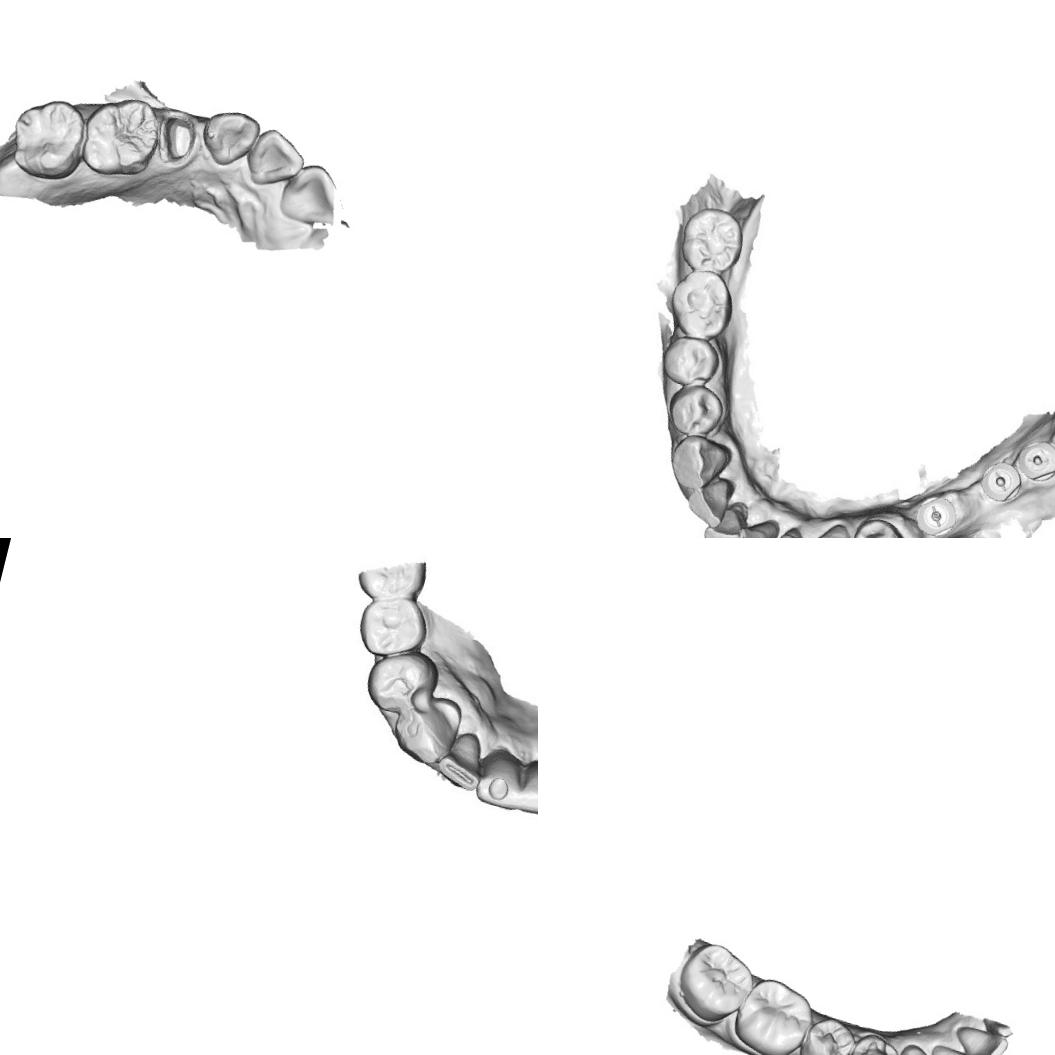canine: (386, 686, 465, 770), (194, 102, 265, 173), (666, 432, 734, 494), (794, 512, 865, 538), (890, 1040, 949, 1055)
crown: (150, 106, 198, 166)
implant_minus: (972, 457, 1028, 507), (912, 489, 961, 538), (1014, 435, 1055, 485)
incisor: (239, 121, 312, 196), (273, 154, 345, 230), (471, 744, 530, 812), (432, 725, 490, 794), (697, 490, 759, 538), (684, 472, 732, 526), (948, 1022, 1011, 1055), (515, 754, 538, 820), (732, 511, 779, 538), (756, 521, 809, 538), (921, 1041, 981, 1055)
molar: (71, 85, 168, 187), (2, 88, 94, 188), (668, 936, 761, 1031), (726, 971, 819, 1055), (675, 202, 745, 280), (664, 266, 734, 340)
premolar: (358, 638, 444, 722), (352, 587, 434, 666), (664, 382, 726, 444), (659, 334, 720, 390), (795, 1010, 859, 1055), (841, 1027, 905, 1055), (849, 514, 913, 538)
